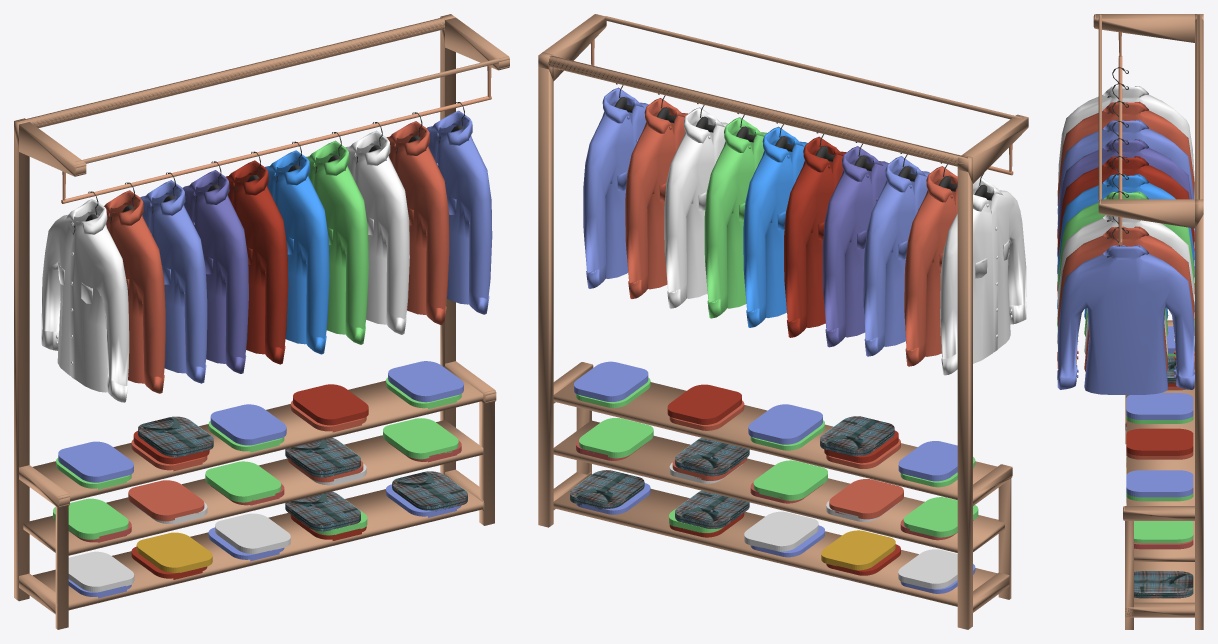
The model's file is Casual Shirt_rack.fbx.
The picture shows the model from 3 angles, left to right: view 1: azimuth 30°, elevation 25°; view 2: azimuth 150°, elevation 25°; view 3: azimuth 270°, elevation 25°; orthographic projection. The views are drawn at different scales.
Parts seen in each view (by area): view 1: Pattern2D_5081.001, polySurface88.001, polySurface88.010, polySurface88.004, polySurface88.003, polySurface88.006, polySurface88.008, polySurface88.009, polySurface88.007, polySurface88.005, polySurface88.002, Cylinder.002 (+15 smaller); view 2: Pattern2D_5081.001, polySurface88.001, polySurface88.010, polySurface88.004, polySurface88.003, polySurface88.006, polySurface88.008, polySurface88.009, polySurface88.007, polySurface88.005, polySurface88.002, Shirt_folded.063 (+14 smaller); view 3: Pattern2D_5081.001, polySurface88.010, polySurface88.009, polySurface88.003, polySurface88.002, polySurface88.005, polySurface88.008, polySurface88.004, polySurface88.001, polySurface88.006, Shirt_folded.065, Shirt_folded.064 (+10 smaller).
Boxes of the visible parts, x1=… form: Pattern2D_5081.001: x1=14, y1=14, x2=509, y2=629; polySurface88.001: x1=41, y1=199, x2=129, y2=402; polySurface88.010: x1=427, y1=110, x2=492, y2=314; polySurface88.004: x1=183, y1=170, x2=248, y2=373; polySurface88.003: x1=140, y1=180, x2=207, y2=383; polySurface88.006: x1=265, y1=150, x2=329, y2=354; polySurface88.008: x1=345, y1=130, x2=409, y2=334; polySurface88.009: x1=386, y1=121, x2=449, y2=325; polySurface88.007: x1=306, y1=140, x2=368, y2=344; polySurface88.005: x1=226, y1=160, x2=288, y2=364; polySurface88.002: x1=104, y1=190, x2=165, y2=393; Cylinder.002: x1=61, y1=66, x2=491, y2=203; Pattern2D_5081.001: x1=538, y1=14, x2=1028, y2=629; polySurface88.001: x1=940, y1=176, x2=1026, y2=375; polySurface88.010: x1=583, y1=87, x2=648, y2=288; polySurface88.004: x1=822, y1=146, x2=888, y2=347; polySurface88.003: x1=863, y1=156, x2=929, y2=356; polySurface88.006: x1=743, y1=126, x2=807, y2=327; polySurface88.008: x1=664, y1=107, x2=728, y2=308; polySurface88.009: x1=625, y1=98, x2=688, y2=298; polySurface88.007: x1=704, y1=117, x2=766, y2=318; polySurface88.005: x1=784, y1=136, x2=846, y2=337; polySurface88.002: x1=904, y1=166, x2=957, y2=366; Shirt_folded.063: x1=748, y1=404, x2=822, y2=444; Pattern2D_5081.001: x1=1093, y1=14, x2=1203, y2=629; polySurface88.010: x1=1057, y1=245, x2=1194, y2=394; polySurface88.009: x1=1057, y1=226, x2=1194, y2=371; polySurface88.003: x1=1057, y1=120, x2=1194, y2=261; polySurface88.002: x1=1057, y1=101, x2=1194, y2=243; polySurface88.005: x1=1057, y1=156, x2=1194, y2=296; polySurface88.008: x1=1057, y1=215, x2=1194, y2=354; polySurface88.004: x1=1057, y1=139, x2=1194, y2=278; polySurface88.001: x1=1057, y1=86, x2=1194, y2=225; polySurface88.006: x1=1057, y1=174, x2=1194, y2=319; Shirt_folded.065: x1=1126, y1=470, x2=1193, y2=497; Shirt_folded.064: x1=1126, y1=428, x2=1193, y2=455.
Size of the model in its own units: 429 by 447 by 139.
